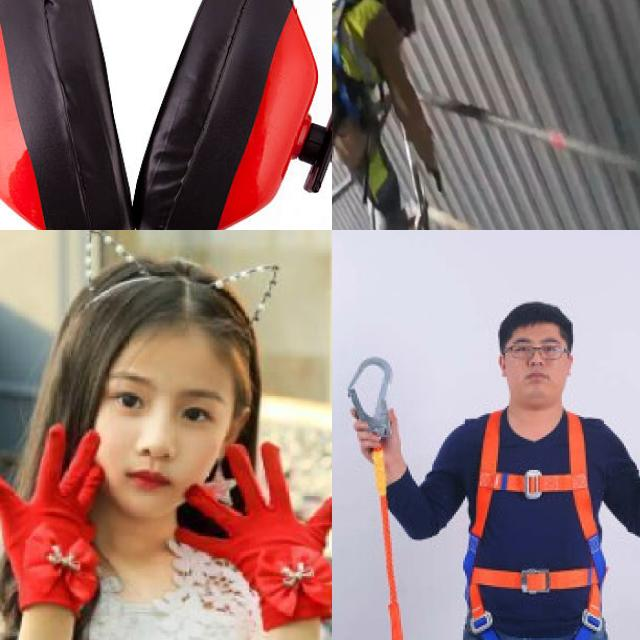Ear-protection: (0, 0, 332, 230)
Harness: (461, 406, 602, 640), (343, 355, 402, 449), (332, 0, 366, 120)
No_Glasses: (107, 373, 219, 444)
face_nomask: (97, 349, 231, 498)
hand_glove: (174, 442, 332, 605), (0, 423, 108, 609)
head_nohelmet: (46, 235, 285, 369)
person: (0, 230, 332, 640)
